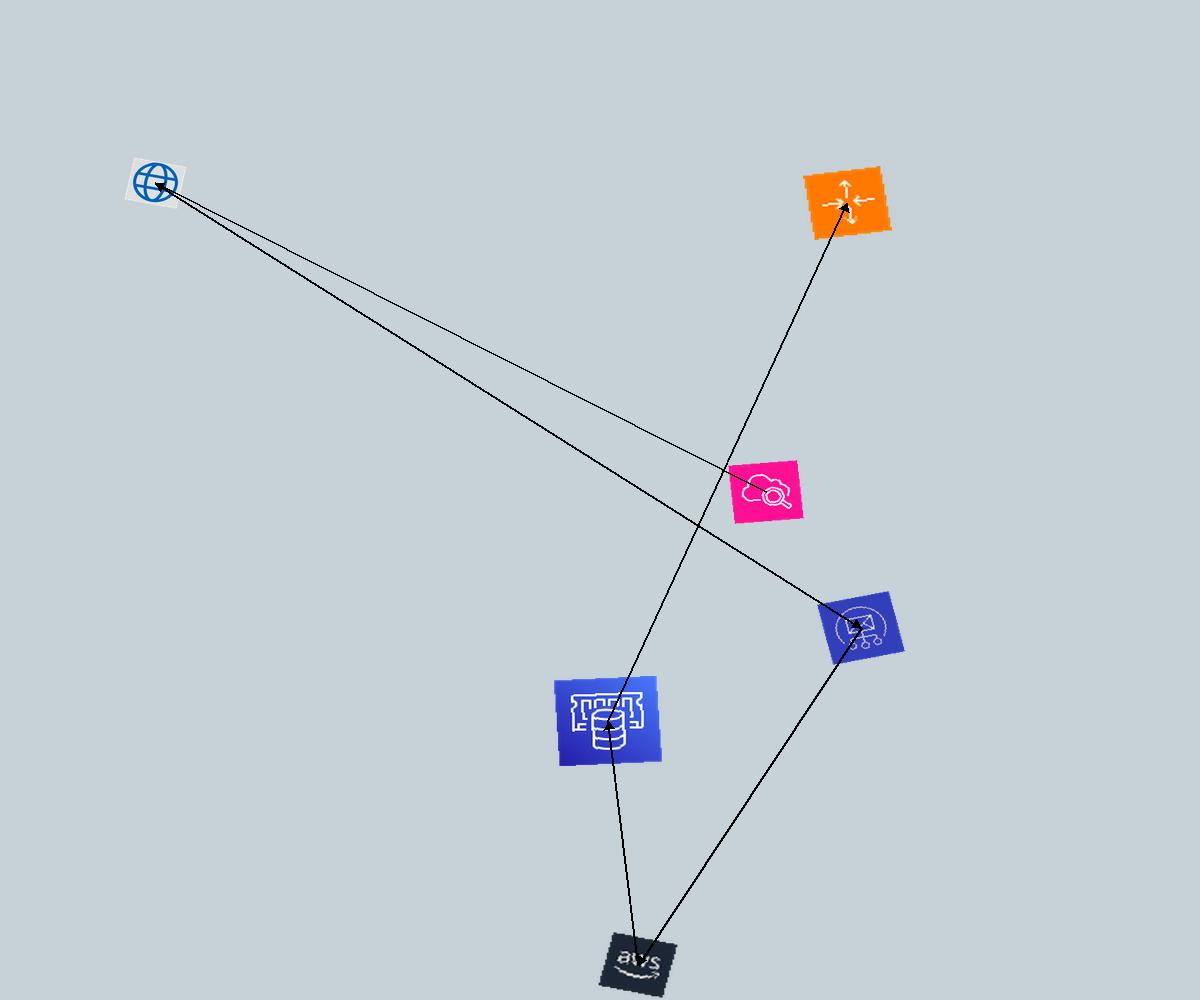AWS-Cloud-logo: (597, 931, 679, 999)
AWS-CloudWatch: (728, 460, 804, 524)
AWS-ElastiCache: (553, 675, 663, 767)
AWS-Scaling-group: (803, 166, 892, 240)
AWS-Simple-Email-Service: (817, 591, 905, 665)
Azure_http: (124, 157, 187, 209)
